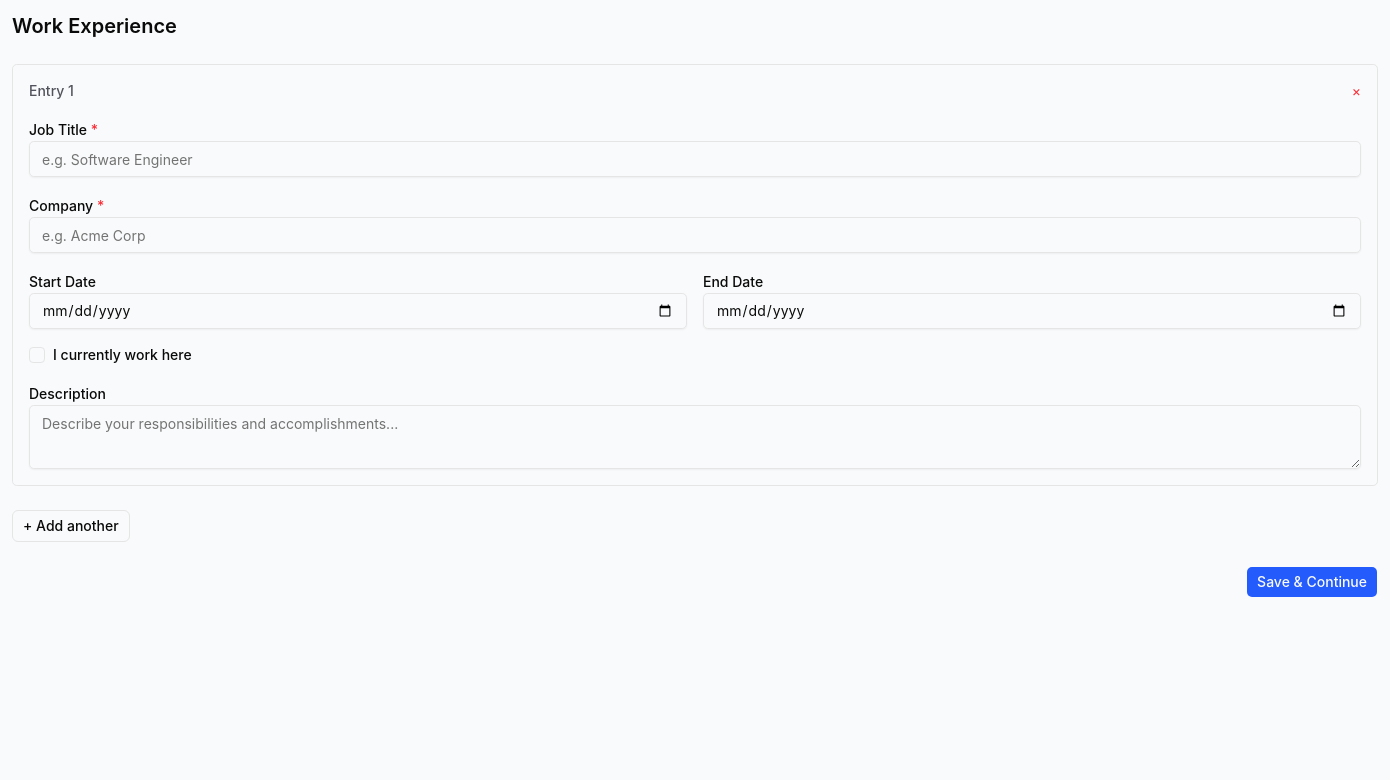
Test: ExperienceStep › Test 1: blur on empty jobTitle renders text-red-600 error below the field
The width and height of the screenshot is (1390, 780).
Click the field with placeholder "e.g. Software Engineer" at coordinates (695, 159), box [29, 141, 1361, 177]
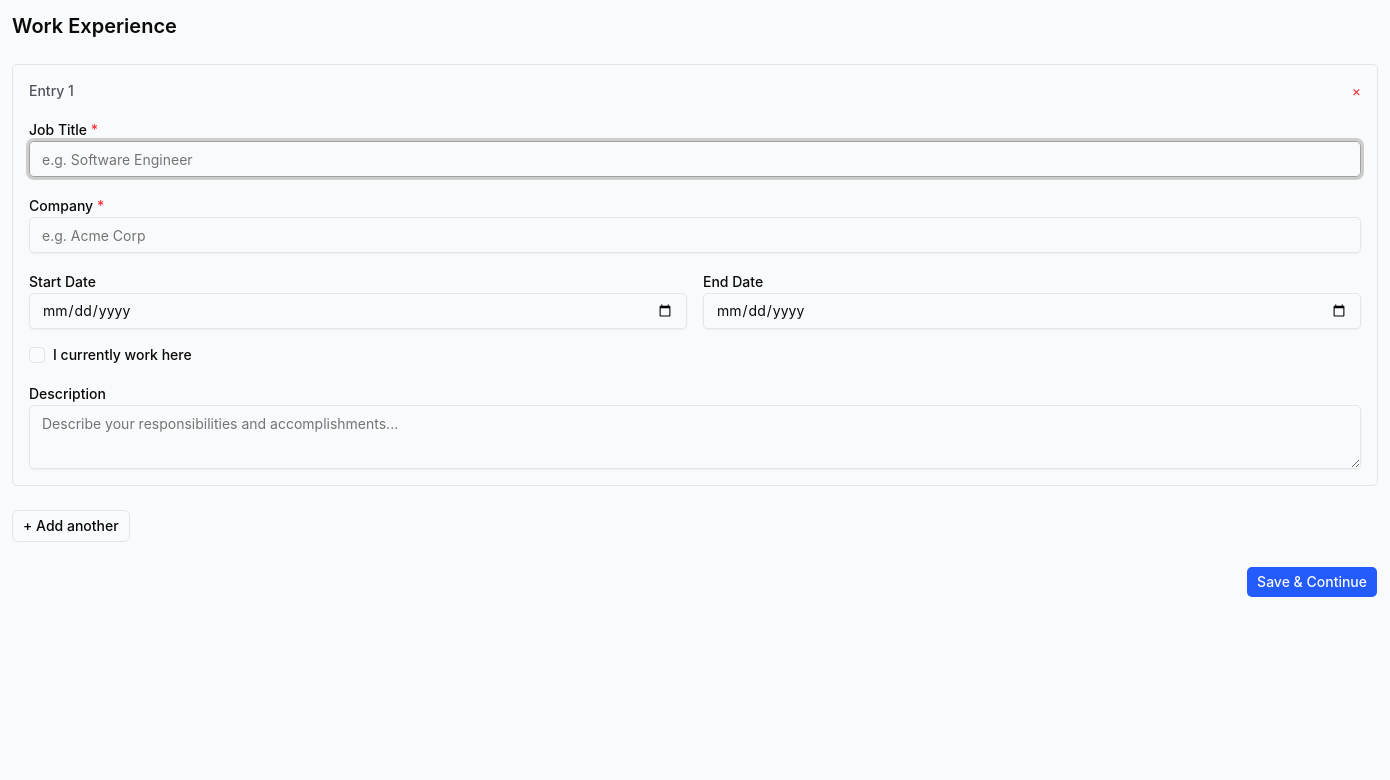
Press Tab
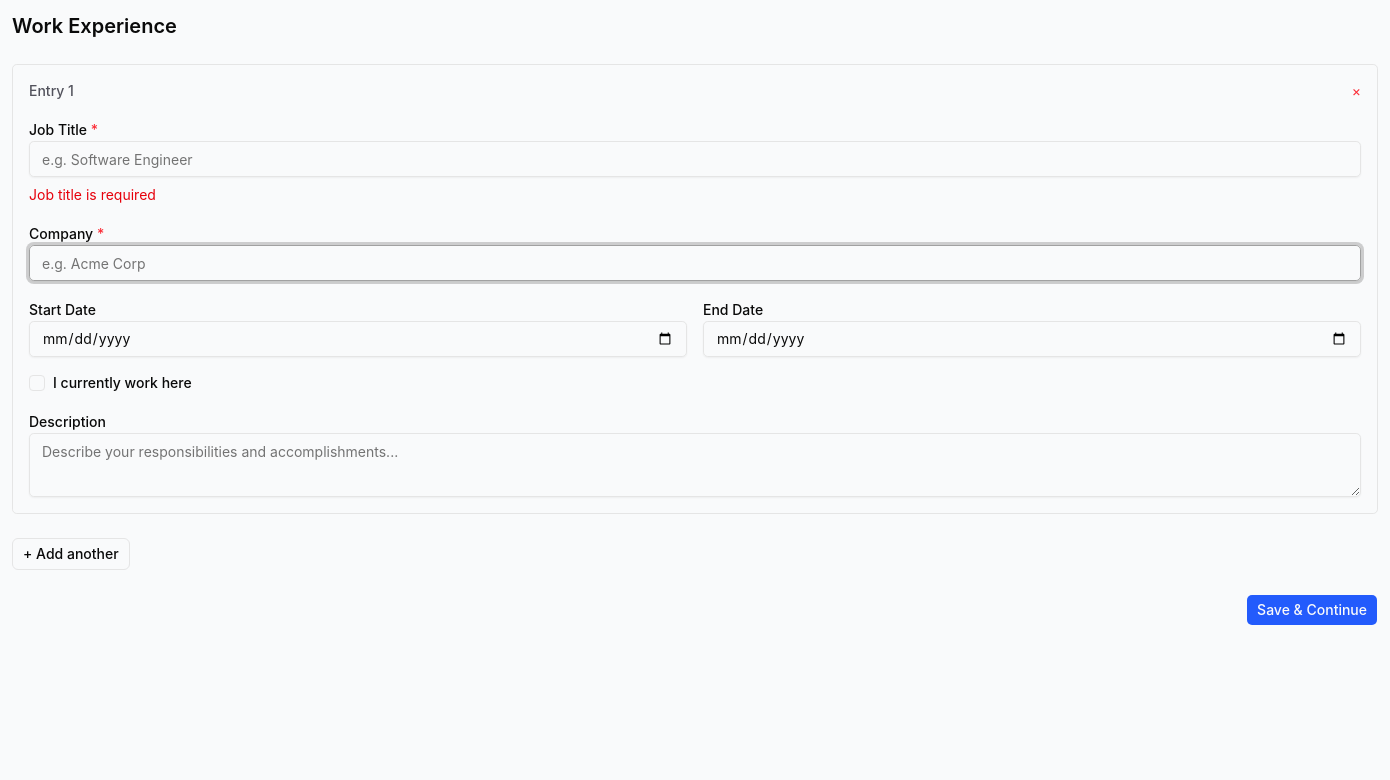
Check: the text "Job title is required" is shown, box [29, 186, 156, 203]
